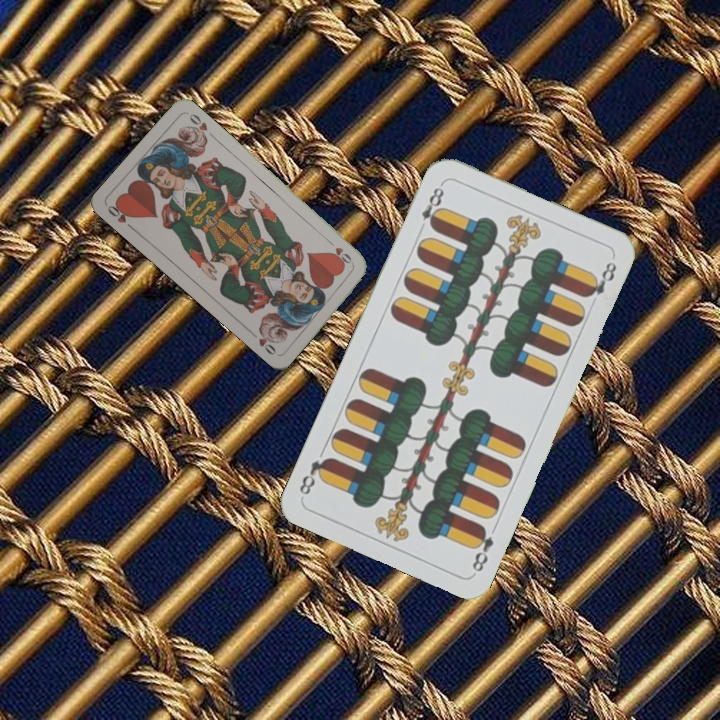E8: (414, 179, 447, 234), (468, 521, 497, 575)
HO: (103, 199, 136, 232), (323, 236, 356, 268)
